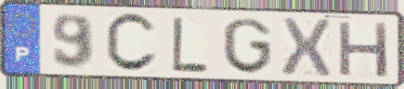9: (50, 12, 96, 71)
C: (104, 11, 160, 75)
G: (220, 17, 275, 76)
H: (336, 19, 392, 79)
L: (170, 15, 211, 75)
X: (278, 15, 334, 78)
